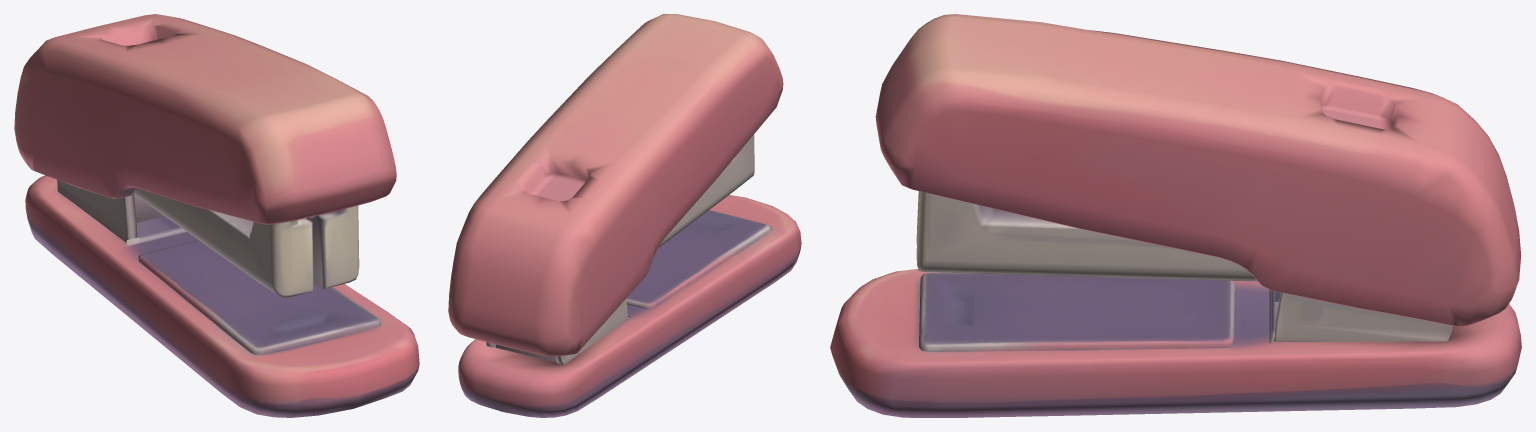
Rendered from pink_stapler_3d_model.fbx.
3 renders of one model, left to right at view 1: azimuth 30°, elevation 25°; view 2: azimuth 150°, elevation 25°; view 3: azimuth 270°, elevation 25°, orthographic. The views are drawn at different scales.
Parts seen in each view (by area): view 1: b9ac86e9_36a4_4582_9408_b33e514c5755; view 2: b9ac86e9_36a4_4582_9408_b33e514c5755; view 3: b9ac86e9_36a4_4582_9408_b33e514c5755.
Boxes of the visible parts, <box> form: b9ac86e9_36a4_4582_9408_b33e514c5755: <box>14,14,419,417</box>; b9ac86e9_36a4_4582_9408_b33e514c5755: <box>448,14,801,417</box>; b9ac86e9_36a4_4582_9408_b33e514c5755: <box>830,14,1521,417</box>.
Bounding box in the file's own units: 0.3442 × 0.5239 × 0.9995.
